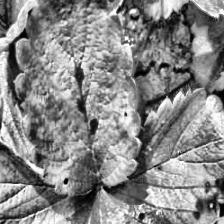Leaf Spot: (14, 0, 142, 199), (89, 86, 224, 224), (0, 132, 98, 224), (0, 0, 58, 51)
